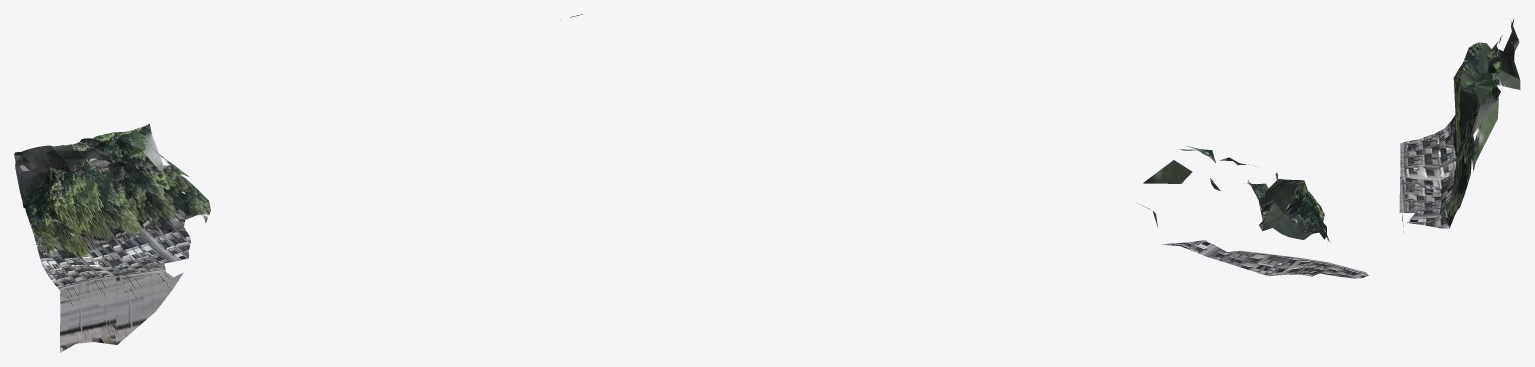
The model's file is Tile_+003_+000.glb.
3 renders of one model, left to right at view 1: azimuth 30°, elevation 25°; view 2: azimuth 150°, elevation 25°; view 3: azimuth 270°, elevation 25°, orthographic. The views are drawn at different scales.
Visible parts, largest first — view 1: Node; view 2: Node; view 3: Node.
Boxes of the visible parts, x1=… form: Node: x1=14, y1=14, x2=582, y2=352; Node: x1=1139, y1=146, x2=1368, y2=278; Node: x1=1399, y1=18, x2=1520, y2=232.
Size of the model in its own units: 141 by 41.63 by 21.35.
1 material, 1 textured.
